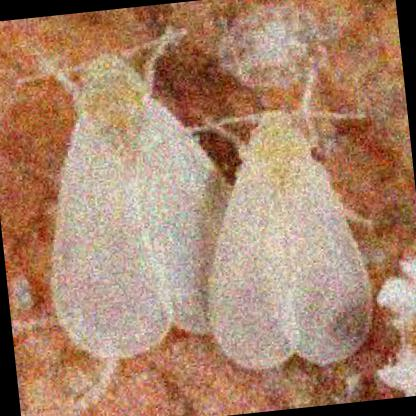whitefly: (50, 53, 232, 361), (213, 109, 367, 369)
